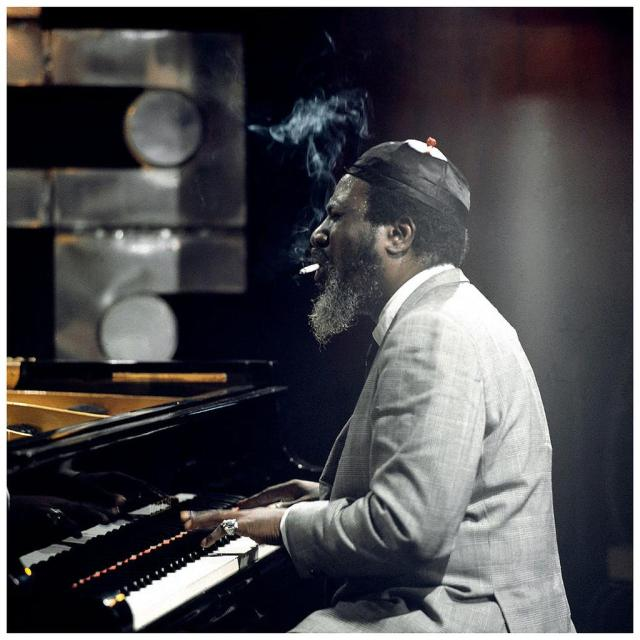smoking: (273, 142, 492, 308)
